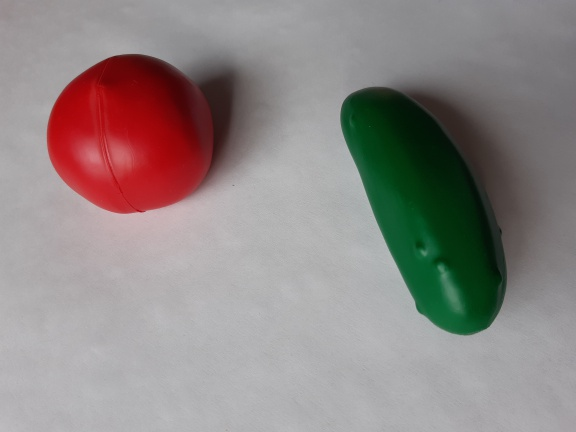cucumber: (335, 76, 517, 342)
tomato: (40, 48, 229, 226)
